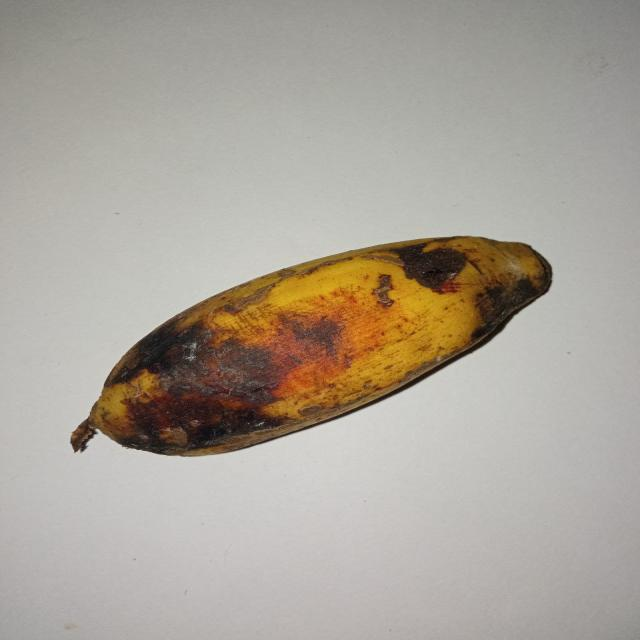rotten_banana: (100, 238, 555, 455)
